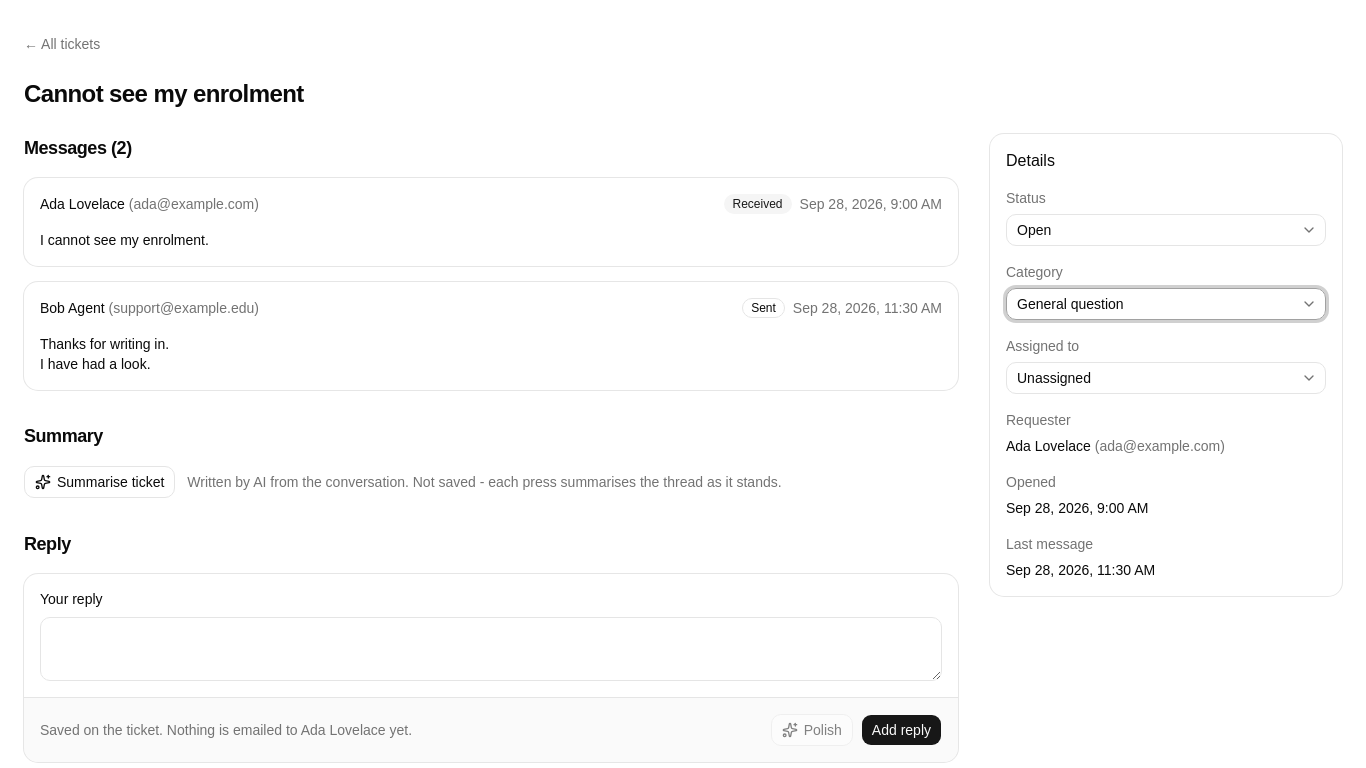
Scenario: TicketDetailPage › clears a category back to uncategorised
expect the dropdown named "Category" is enabled: met, box [1006,288,1326,320]
Press Arrowdown
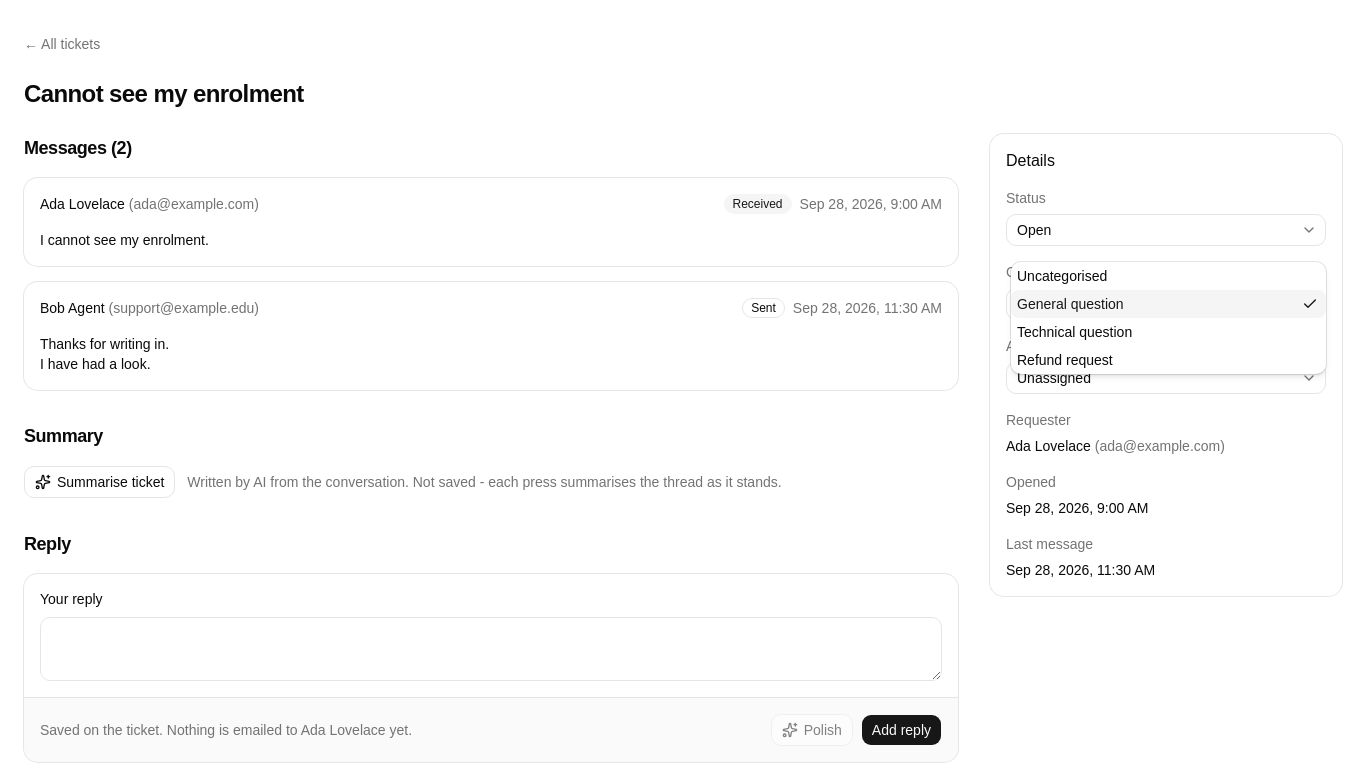
Click the option "Uncategorised".
click(1062, 276)  # box [1017,268,1107,284]
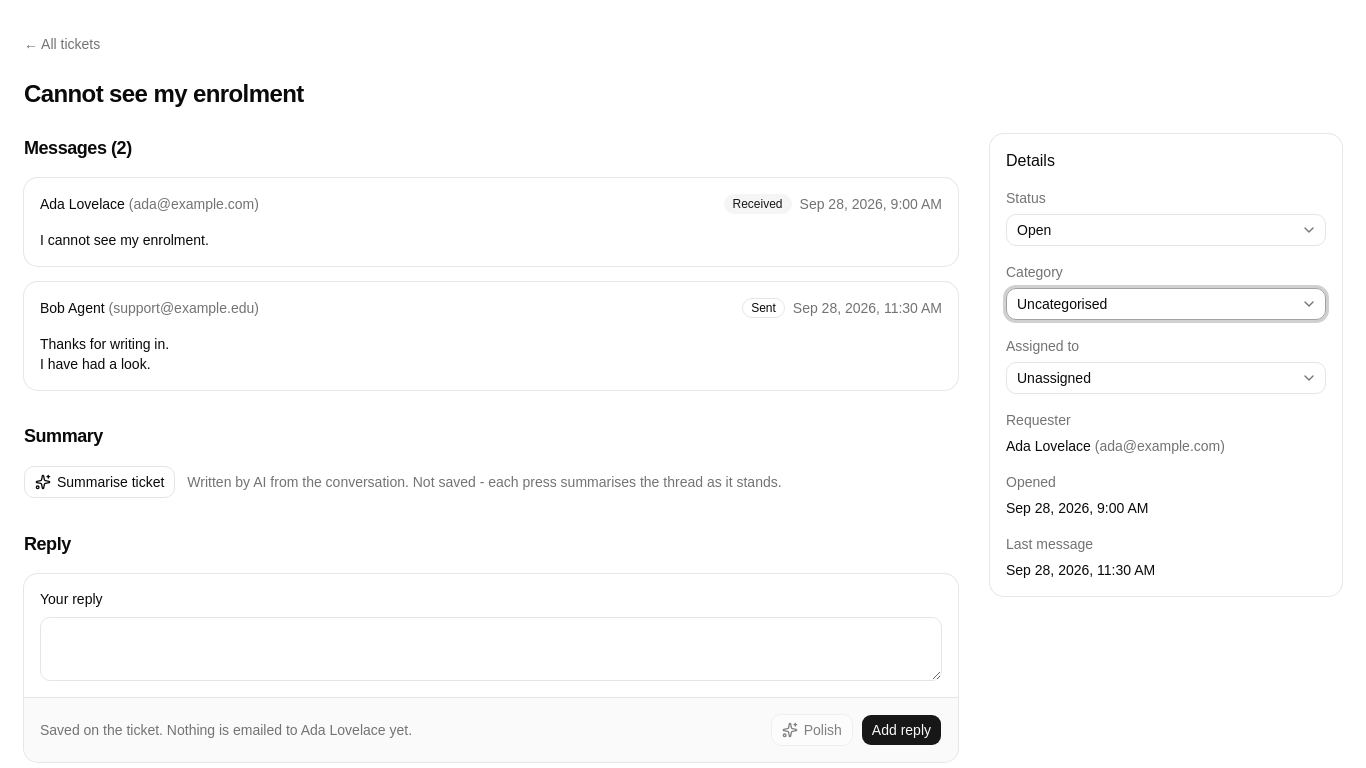
expect the dropdown named "Category" reads "Uncategorised": met, box [1006,288,1326,320]
